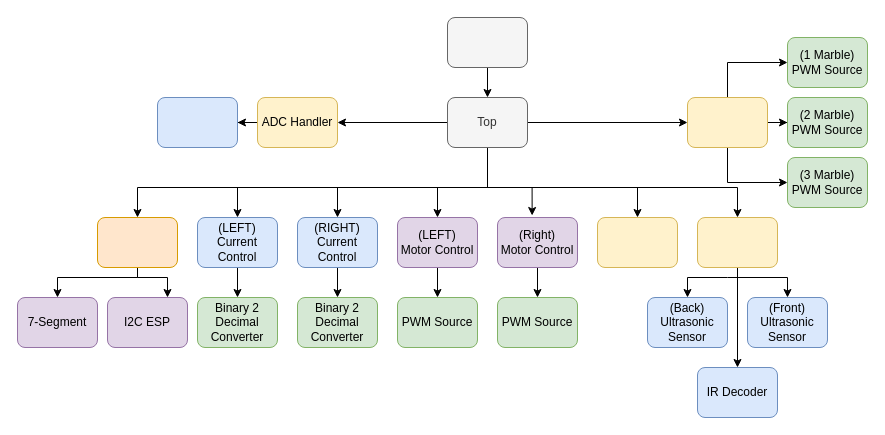
This 885x435 diagram has some shape labels left out. The centre of each missing label's shape, as x and y in pixels:
BASYS Constraints: (x=487, y=42)
BOX Identifier: (x=737, y=242)
Data Handler: (x=137, y=242)
IPS Array: (x=637, y=242)
Marble Delivery: (x=727, y=122)
XADC Wizard: (x=197, y=122)
